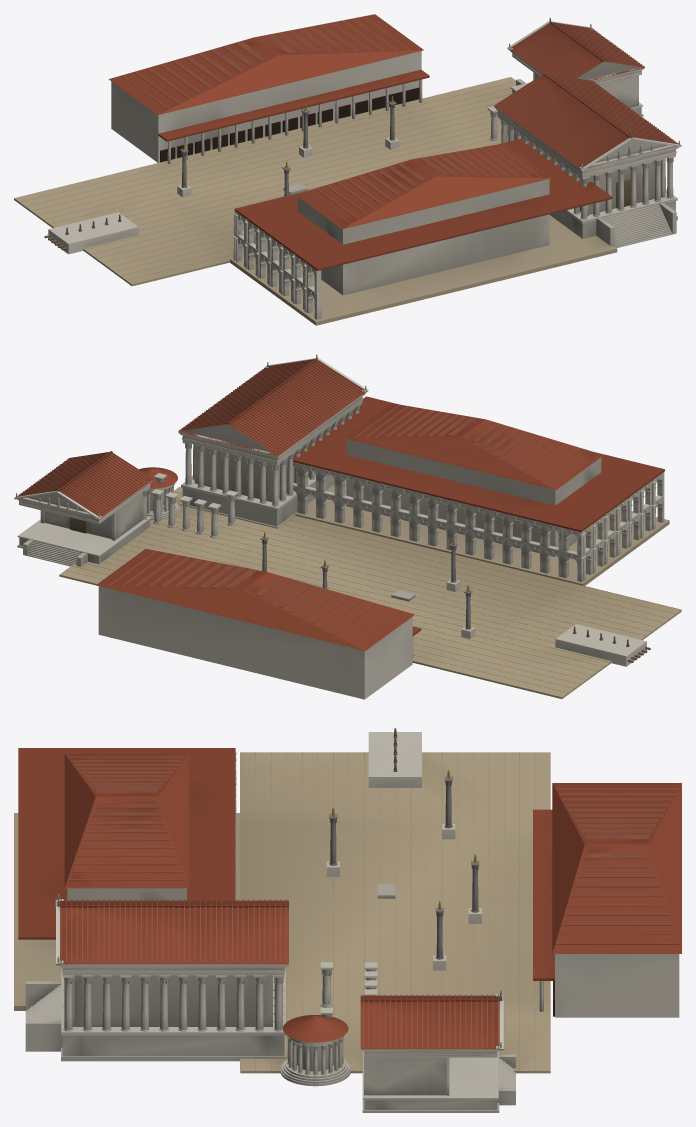
File: roman-forum.glb
3 views of the same model, one above another, from view 1: azimuth 30°, elevation 25°; view 2: azimuth 150°, elevation 25°; view 3: azimuth 270°, elevation 25° (orthographic). The views are drawn at different scales.
Visible parts, largest first — view 1: p2_roofs, p0_paving, p1_basilicas; view 2: p2_roofs, p0_paving, p1_basilicas; view 3: p0_paving, p2_roofs, p1_basilicas.
Boxes of the visible parts, box(x1,y1,x2,y2) form: p2_roofs: box(108, 14, 681, 270); p0_paving: box(14, 77, 677, 325); p1_basilicas: box(44, 51, 675, 319); p2_roofs: box(14, 354, 664, 650); p0_paving: box(17, 474, 681, 698); p1_basilicas: box(40, 403, 664, 699); p0_paving: box(14, 732, 550, 1112); p2_roofs: box(18, 748, 681, 1057); p1_basilicas: box(63, 728, 679, 1095).
Bounding box in the file's own units: 198 × 32.43 × 151.
